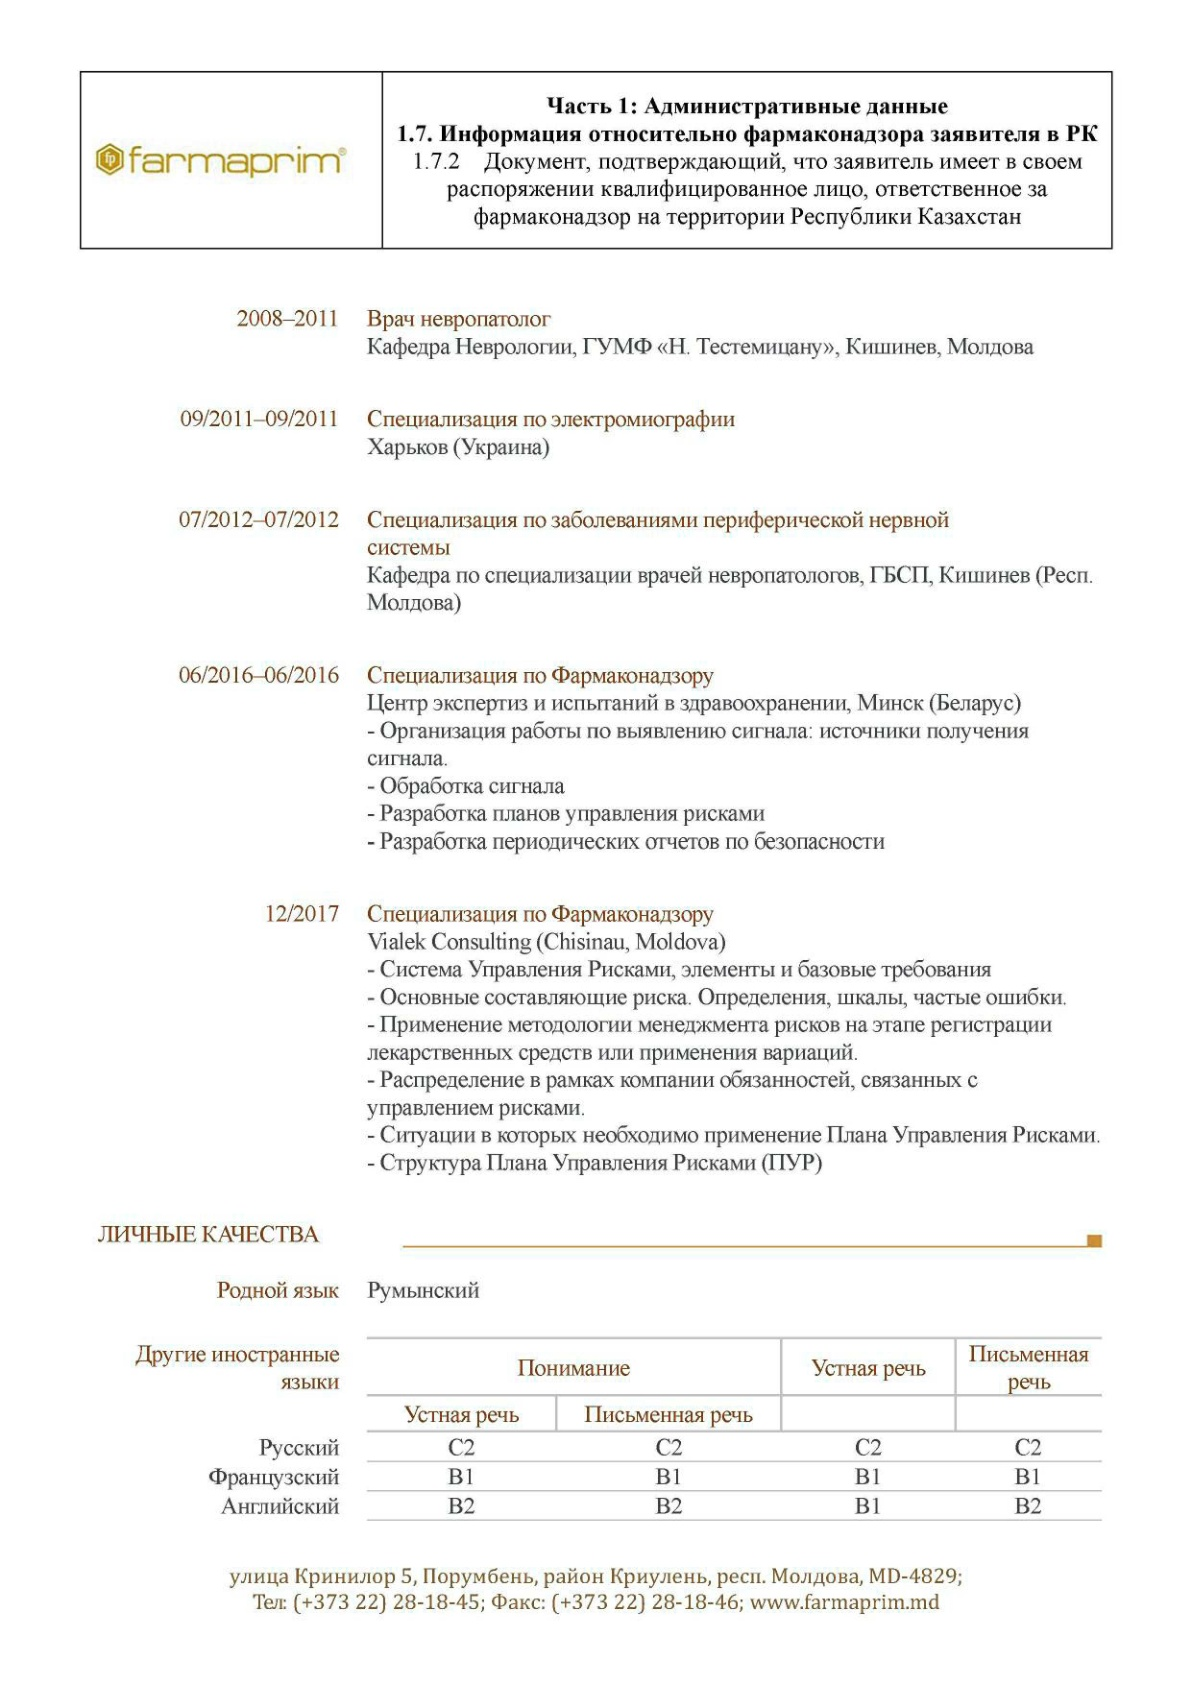merged_cells: (77, 70, 1115, 251)
nolines: (172, 298, 1103, 1180)
partial_lined_merged_cells: (130, 1333, 1095, 1527)
